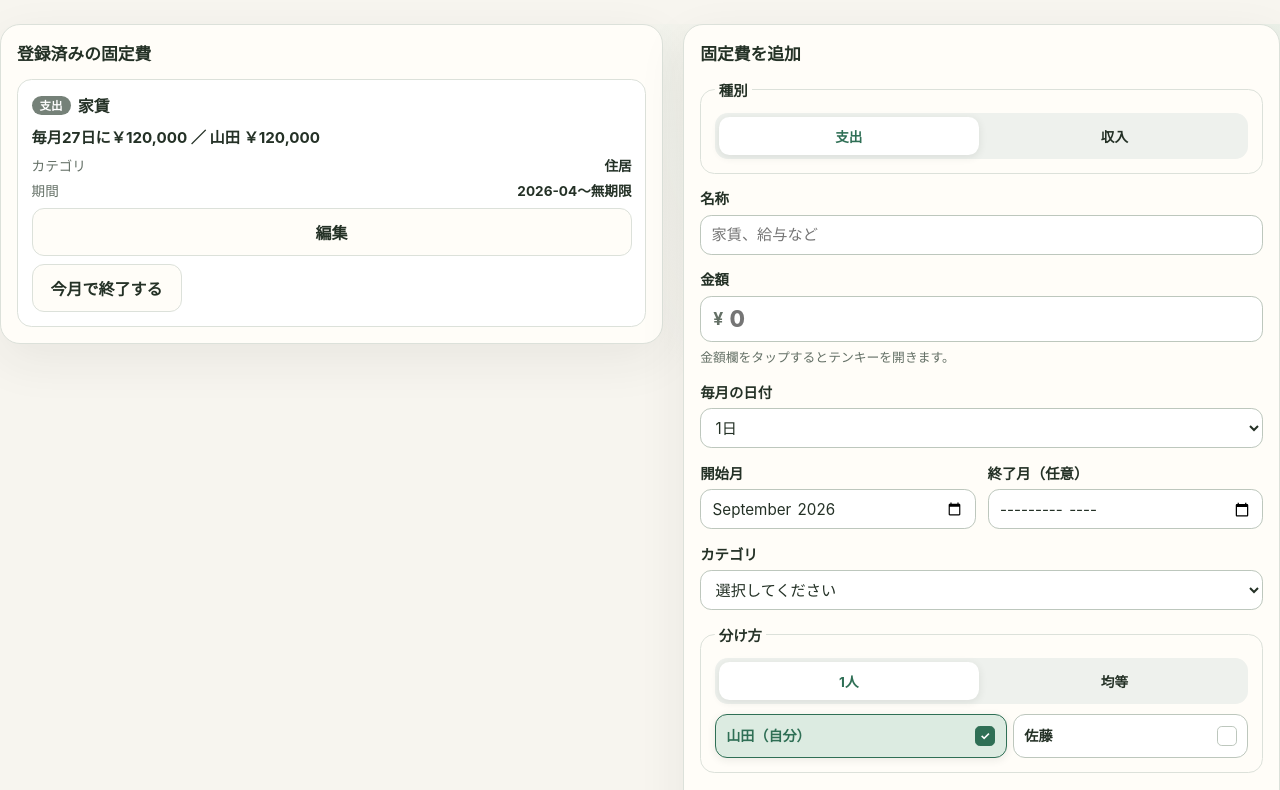
Scenario: RecurringManagement の金額テンキー (REC-010) › 金額欄へfocusするとテンキーが開き、数字・00・1文字削除で値を組み立てる (AC-REC-005-1)
This screenshot has width=1280, height=790.
Focus the field labelled "金額" at (990,319), box [730, 297, 1250, 341]
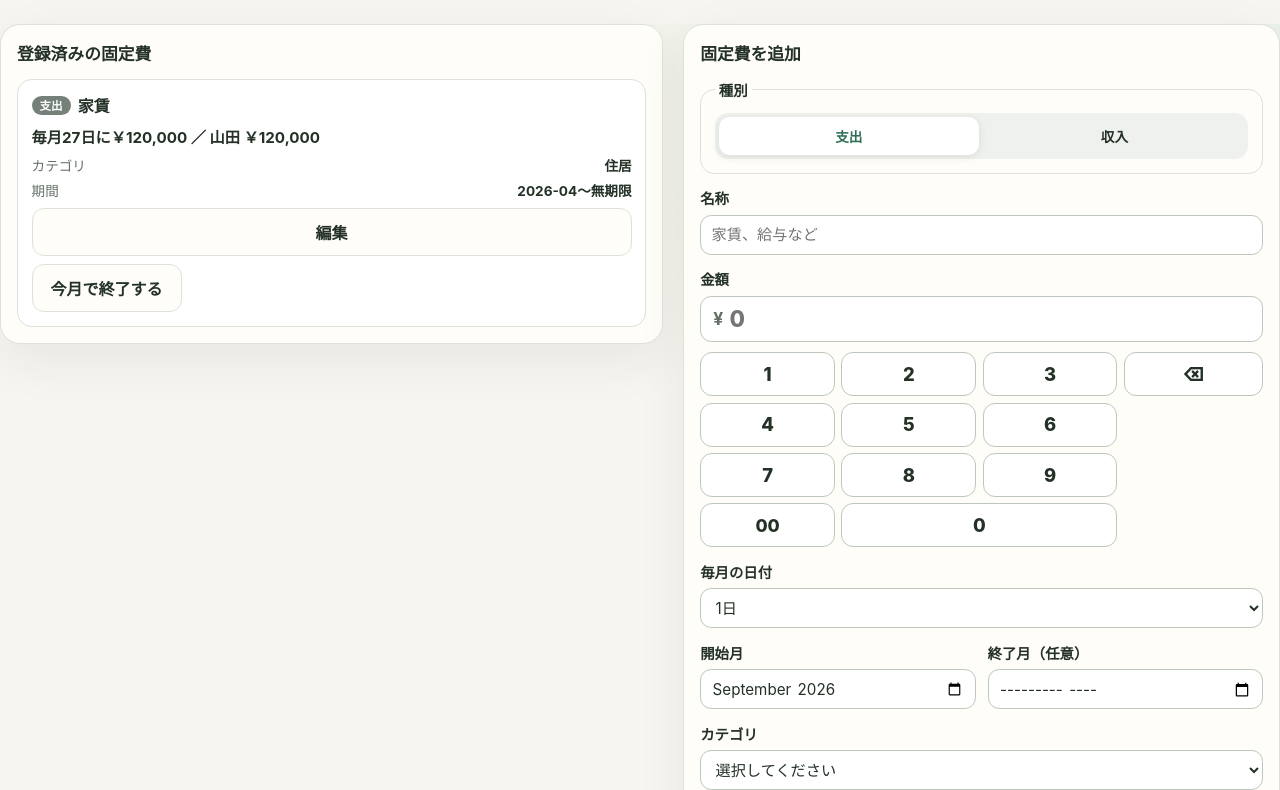
Expected: the text "金額欄をタップするとテンキーを開きます。" is gone
Click the button "1".
click(768, 374)  # box [700, 352, 835, 396]
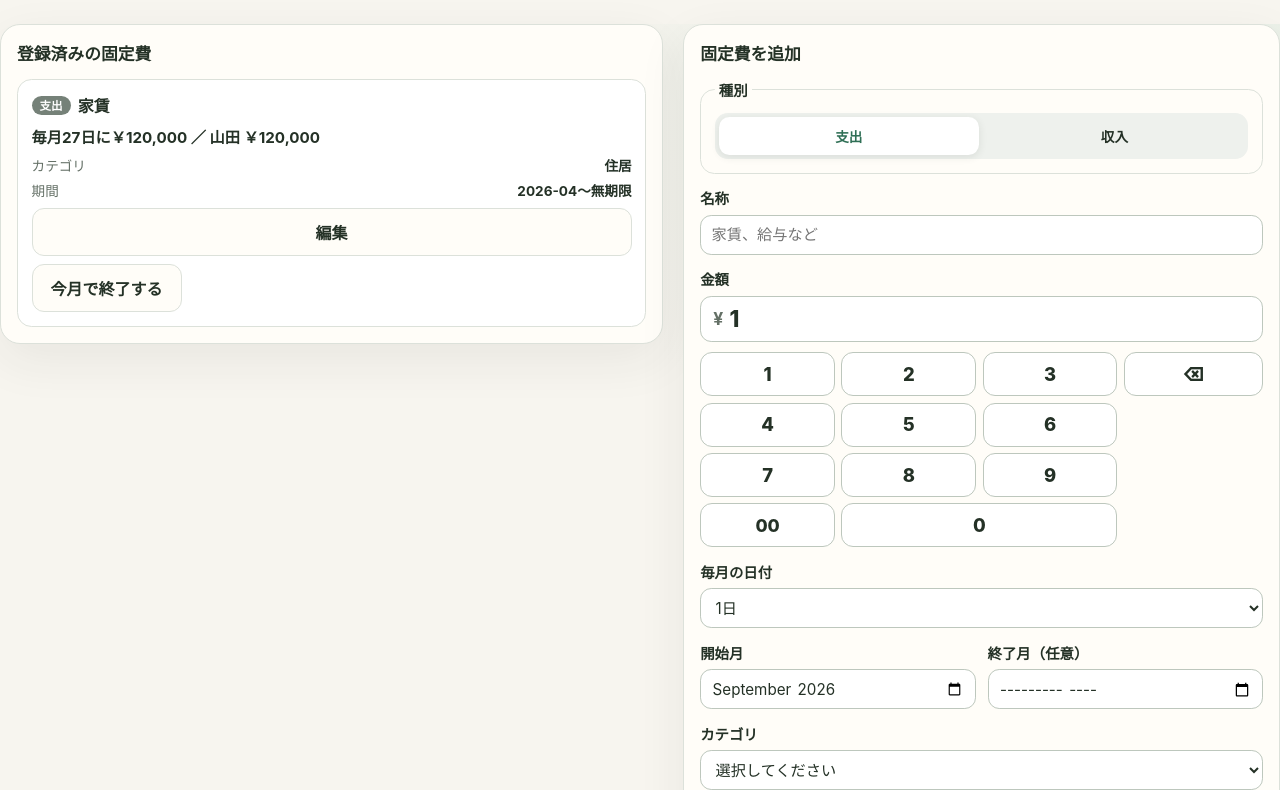
Click the button "2".
click(909, 374)  # box [841, 352, 976, 396]
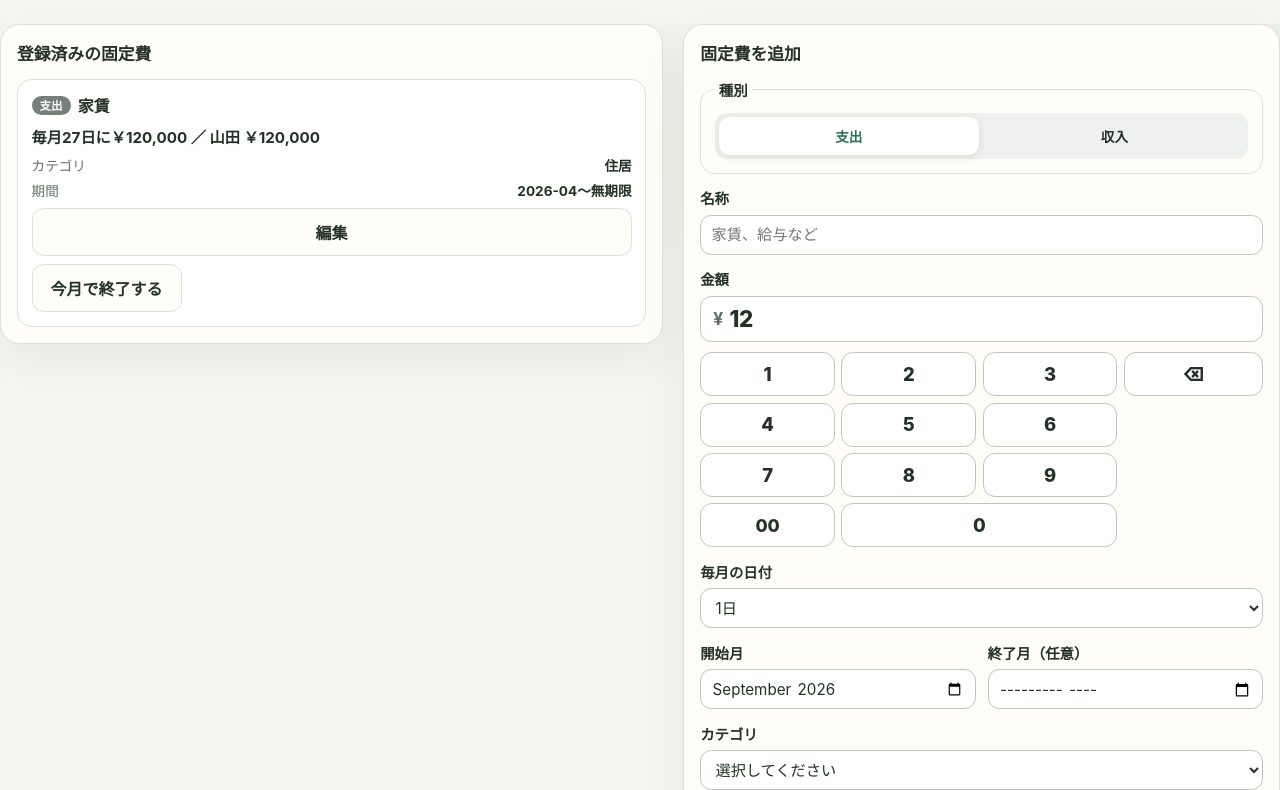
Click the button "00".
click(768, 525)  # box [700, 503, 835, 547]
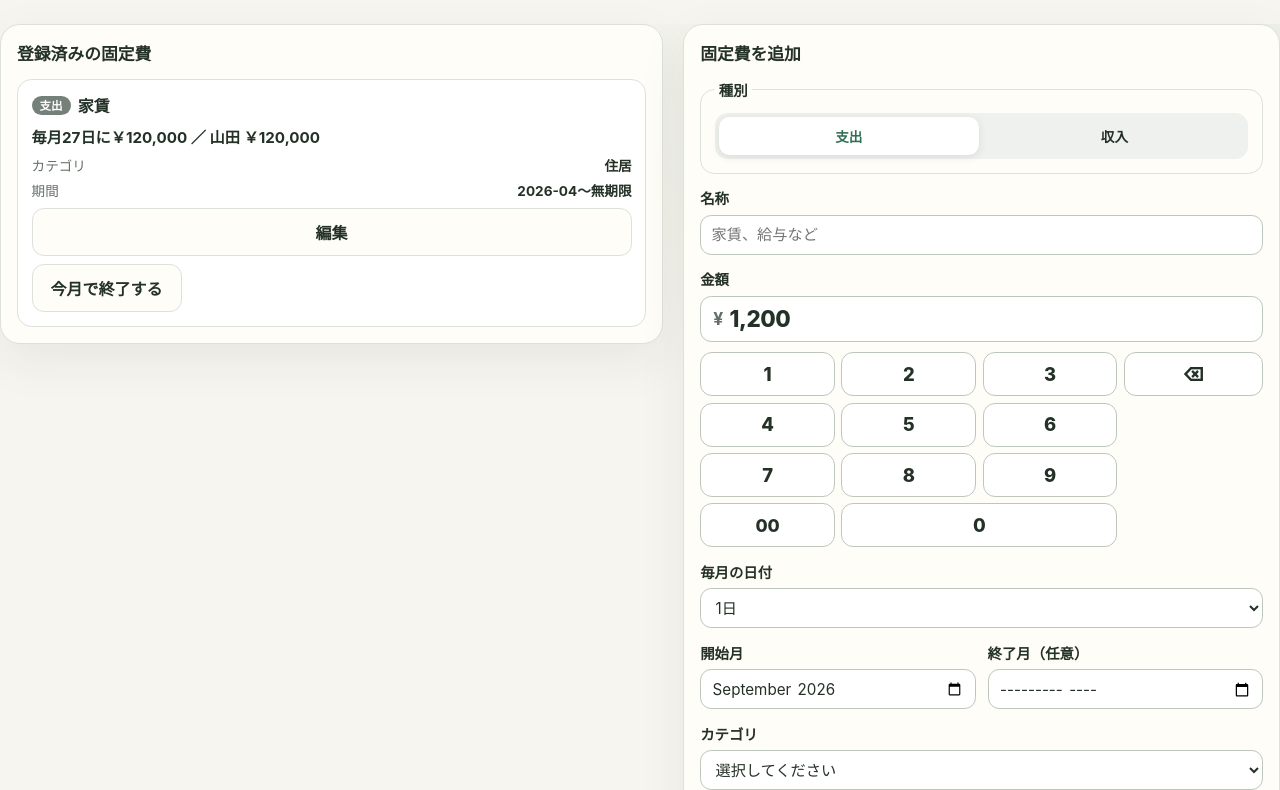
Expected: the element named "amountMinor" holds "1200", [700, 268, 1263, 547]
Expected: the field labelled "金額" holds "1,200", [730, 297, 1250, 341]
Click the button named "1桁削除".
click(1193, 374)  # box [1124, 352, 1263, 396]
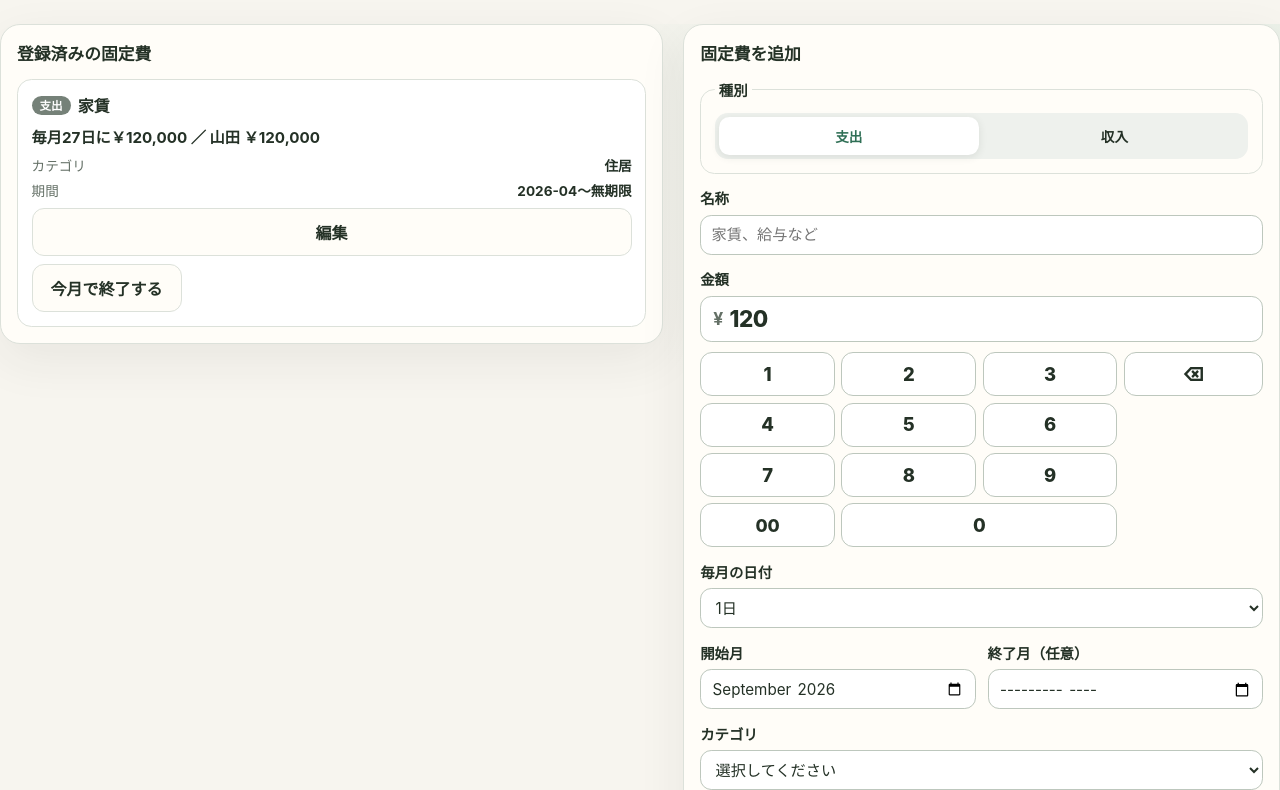
Expected: the element named "amountMinor" holds "120", [700, 268, 1263, 547]
Expected: the field labelled "金額" holds "120", [730, 297, 1250, 341]
